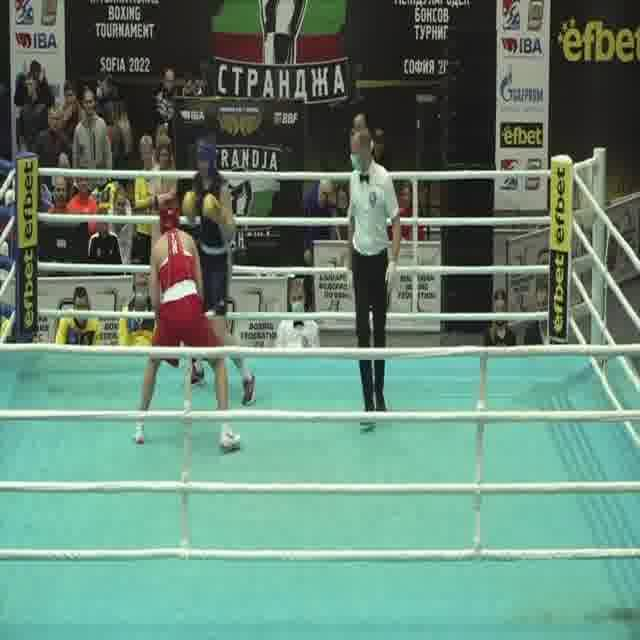blue-player: (178, 135, 260, 409)
red-player: (130, 204, 243, 457)
referee: (343, 128, 407, 434)
